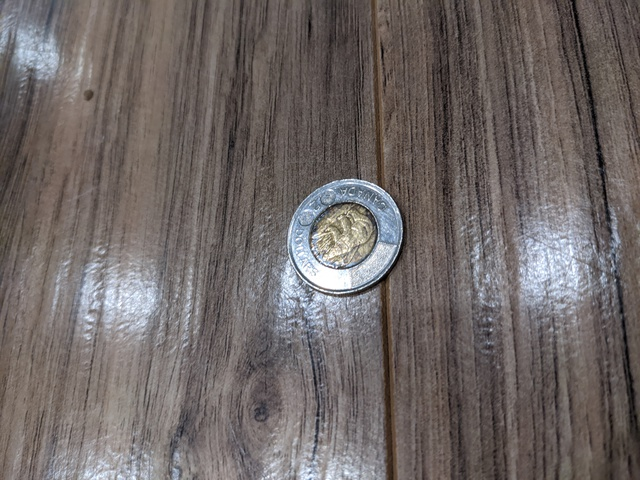twonie: (280, 168, 406, 298)
